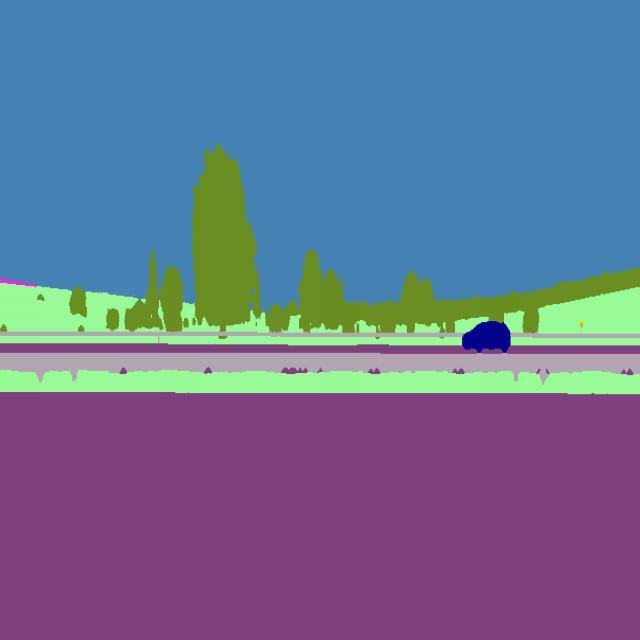safe: (460, 317, 513, 354)
